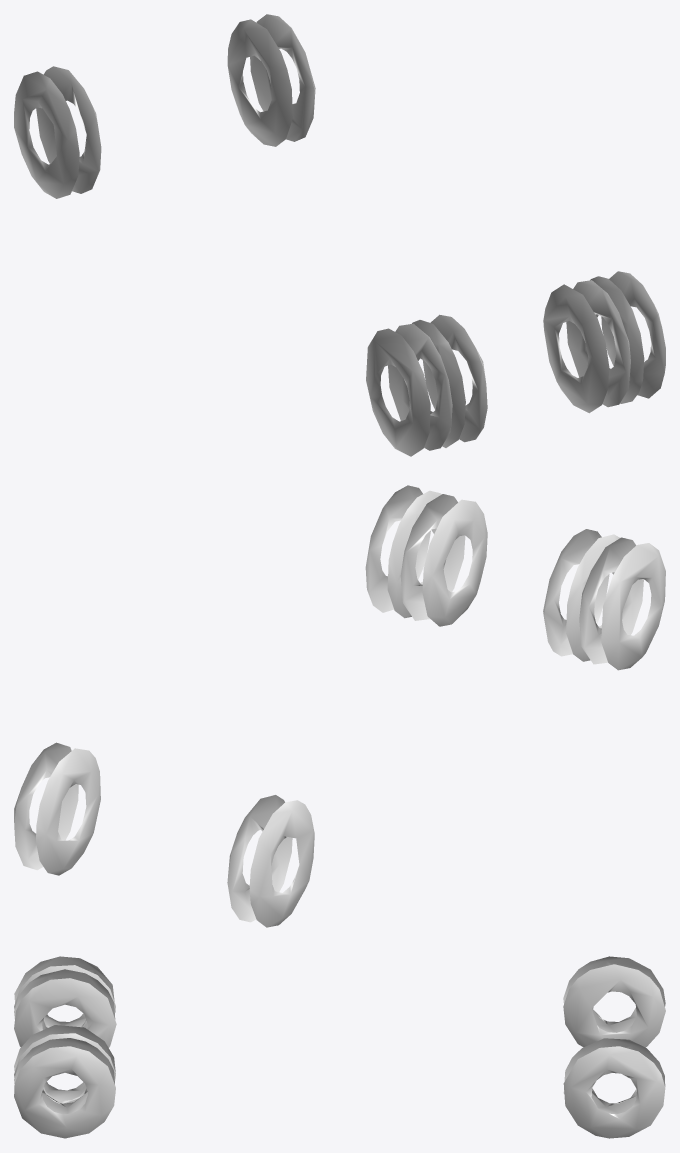
3 renders of one model, top to bottom at view 1: azimuth 30°, elevation 25°; view 2: azimuth 150°, elevation 25°; view 3: azimuth 270°, elevation 25°, orthographic. The views are drawn at different scales.
Bounding box in the file's own units: 2.33 × 1.07 × 6.78.
1 material, 1 textured.
